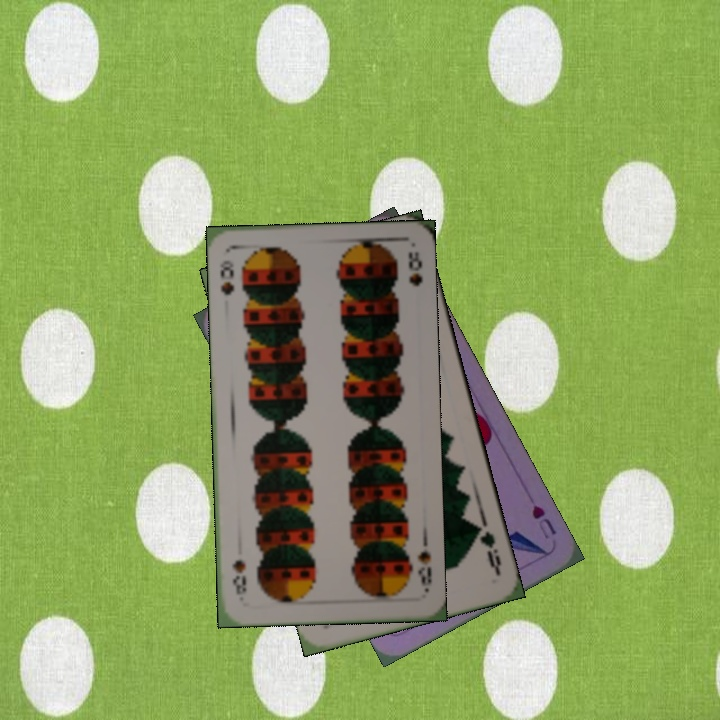G9: (469, 521, 504, 577)
HU: (527, 500, 559, 542)
S8: (413, 546, 434, 595), (216, 256, 237, 297)
